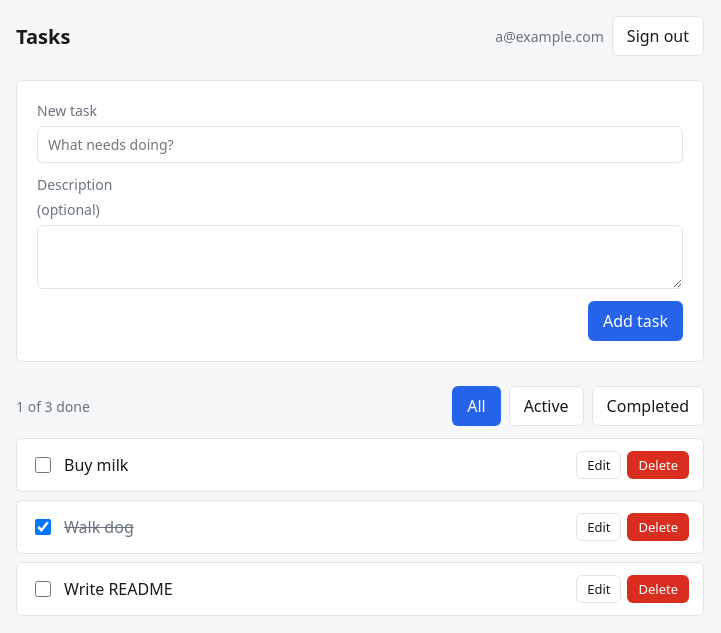
TodosPage › shows the done counter and filters by status
Expected: the text "1 of 3 done" is shown, [16, 396, 90, 416]
Expected: the text "Buy milk" is shown, [64, 454, 128, 476]
Click the button "active" at (546, 406), box [509, 386, 584, 426]
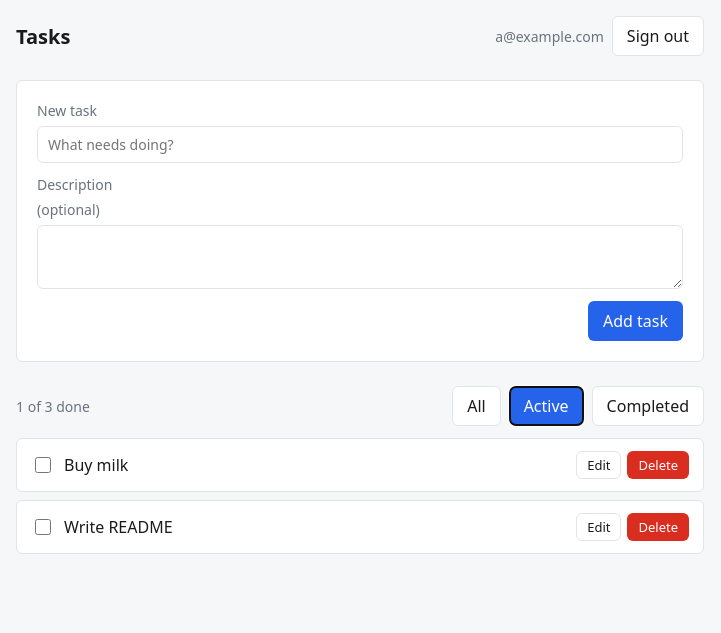
Expected: the text "Buy milk" is shown, [64, 454, 128, 476]
Expected: the text "Walk dog" is gone
Click the button "completed" at (648, 406), box [592, 386, 704, 426]
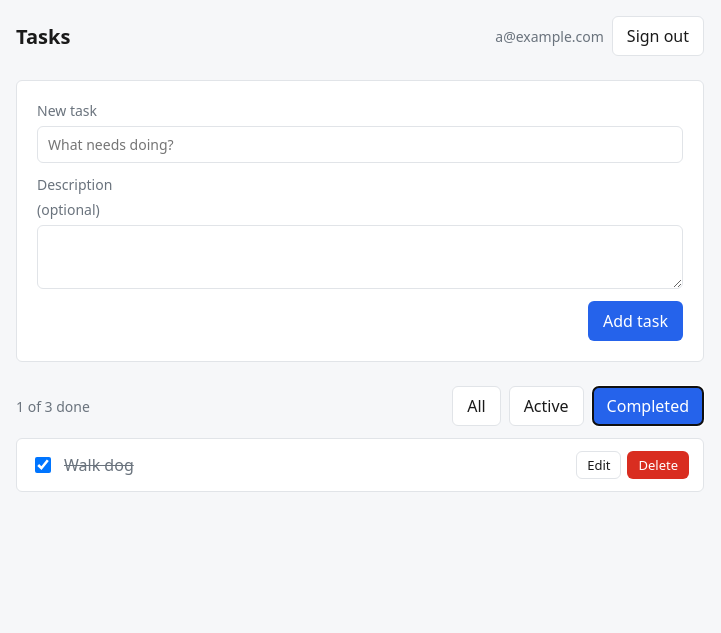
Expected: the text "Buy milk" is gone
Expected: the text "Walk dog" is shown, [64, 454, 134, 476]
Expected: the text "Write README" is gone
